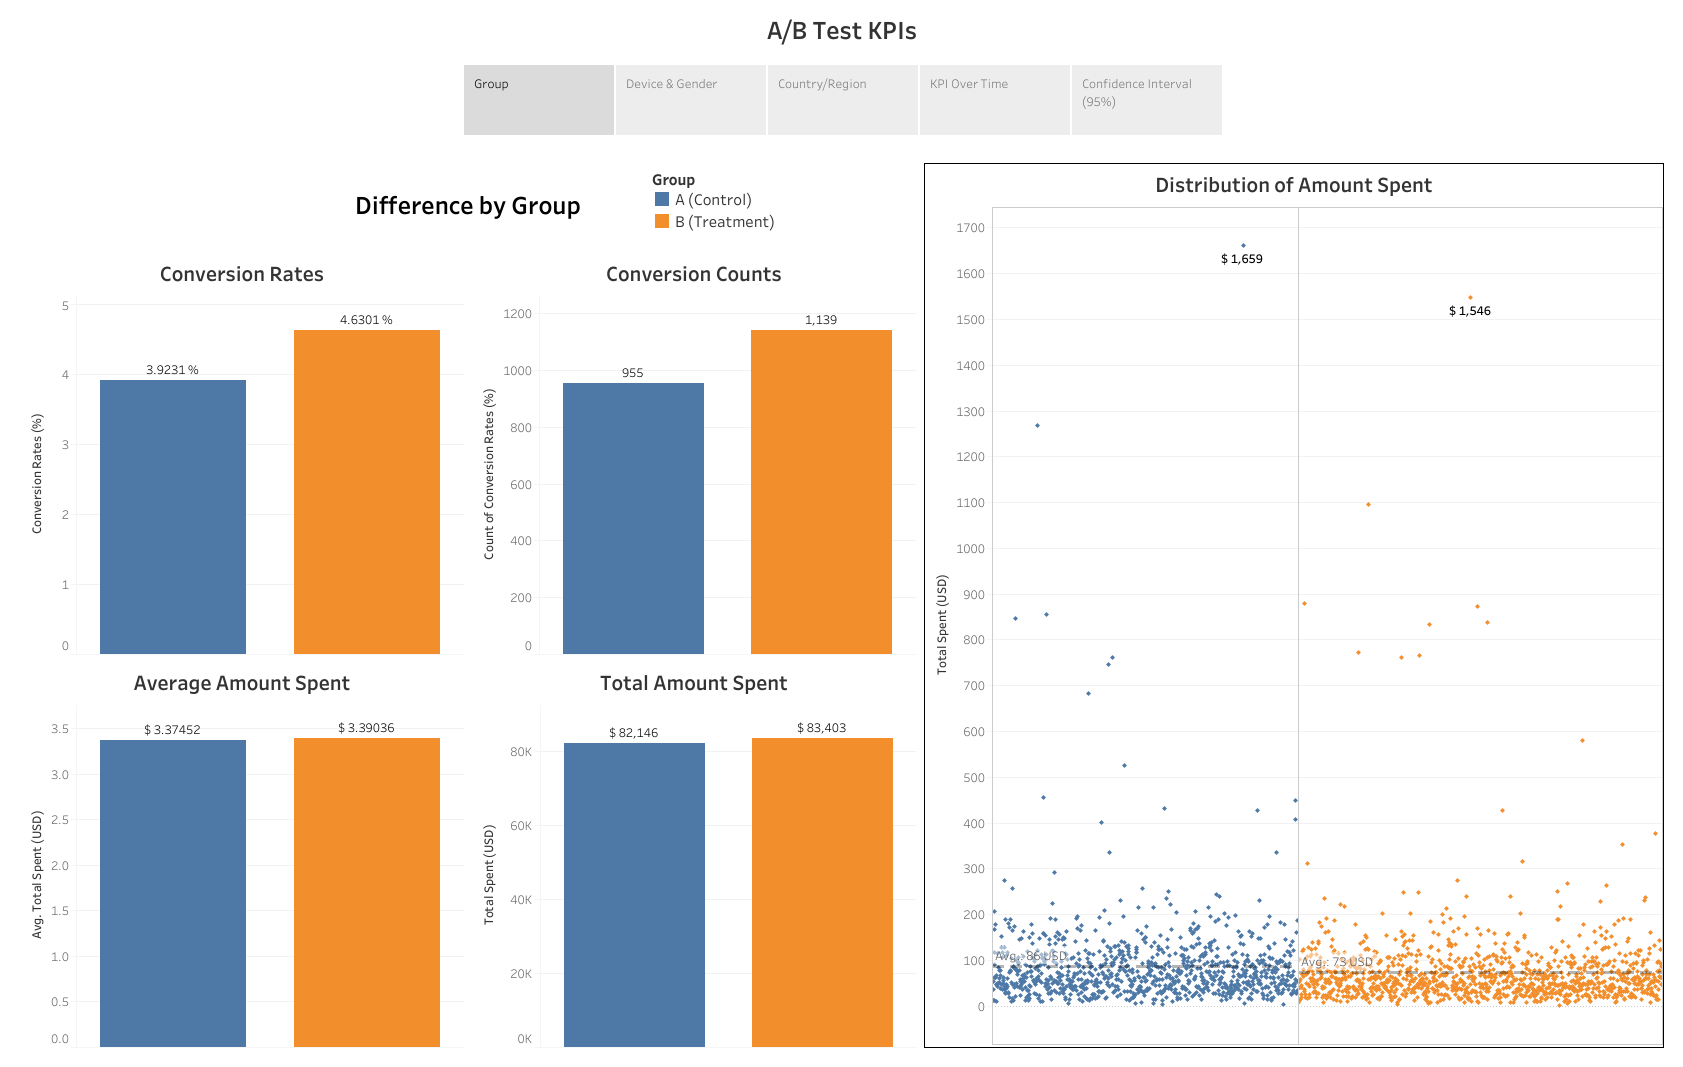

This screenshot's page, from the dashboard's own definition file:
{"tool":"tableau","page":{"name":"Difference by Group","canvas":[1000,1000],"units":"permille","ordinal":3},"visuals":[{"type":"text","box":[4.8,9.4,541.8,98.6]},{"type":"worksheet","title":"Distribution of Amount Spent","mark":"Shape","rows":["total_spent"],"cols":["group","id"],"box":[546.6,9.4,448.5,981.2]},{"type":"legend","title":"Conversion Rates by Group","param":"[federated.0faq6xn0g6y1d01a19ll80l3u13v].[none:group:nk]","box":[385.4,16.4,148.9,97.5]},{"type":"worksheet","title":"Conversion Rates by Group","mark":"Automatic","rows":["Calculation_1055812696947208192"],"cols":["group"],"box":[4.8,108,271.2,450.1]},{"type":"worksheet","title":"Conversion Counts","mark":"Automatic","rows":["Calculation_1055812696947208192"],"cols":["group"],"box":[276,108,270.6,450.1]},{"type":"worksheet","title":"Average Amount Spent","mark":"Automatic","rows":["total_spent"],"cols":["group"],"box":[4.8,558.1,271.2,432.5]},{"type":"worksheet","title":"Total Amount Spent","mark":"Automatic","rows":["total_spent"],"cols":["group"],"box":[276,558.1,270.6,432.5]}]}

Visuals, with their boxes on the dashboard's canvas, which has no fixed pixel size, in thousandths of its width and height (x1, y1, x2, y2). These are canvas units, not pixel positions in the 1683x1067 screenshot, which may show the page scaled, cropped or inside an application window:
text: Rect(5, 9, 547, 108)
"Distribution of Amount Spent" worksheet (Shape marks): Rect(547, 9, 995, 991)
"Conversion Rates by Group" legend: Rect(385, 16, 534, 114)
"Conversion Rates by Group" worksheet: Rect(5, 108, 276, 558)
"Conversion Counts" worksheet: Rect(276, 108, 547, 558)
"Average Amount Spent" worksheet: Rect(5, 558, 276, 991)
"Total Amount Spent" worksheet: Rect(276, 558, 547, 991)
